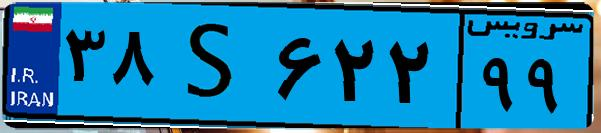2: (385, 28, 445, 110), (330, 28, 385, 110)
3: (57, 26, 110, 100)
6: (270, 28, 330, 110)
8: (110, 28, 158, 98)
9: (475, 38, 525, 113), (525, 38, 570, 115)
S: (158, 12, 270, 120)
